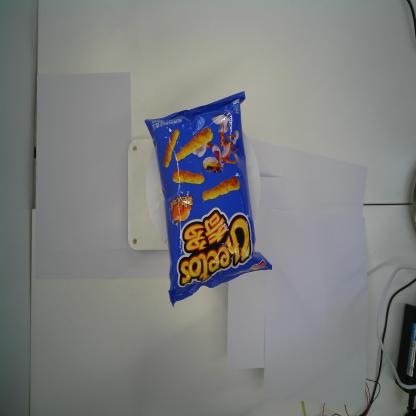Puffed Food: (142, 90, 273, 308)
